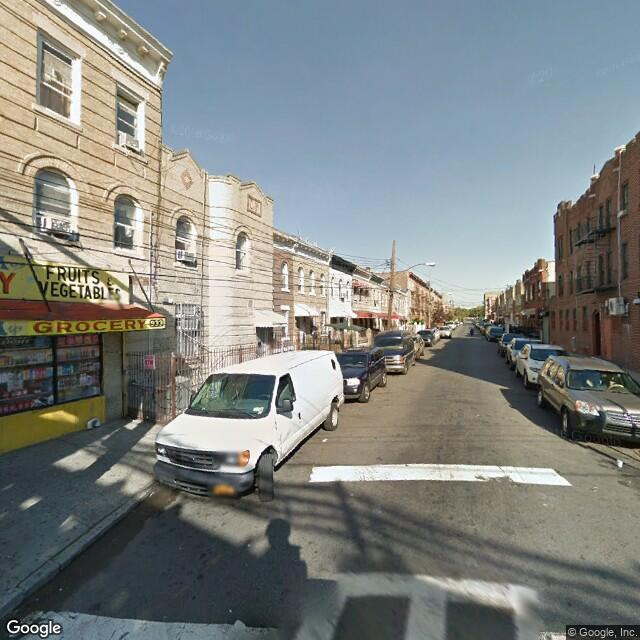litter: (234, 618, 246, 632), (86, 419, 102, 429), (613, 458, 626, 468), (320, 437, 330, 442)
